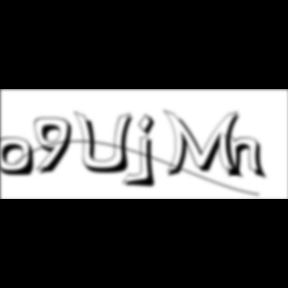9: (34, 117, 78, 177)
M: (163, 108, 247, 181)
U: (74, 110, 140, 176)
j: (136, 113, 162, 191)
n: (224, 132, 270, 181)
o: (1, 137, 37, 179)
